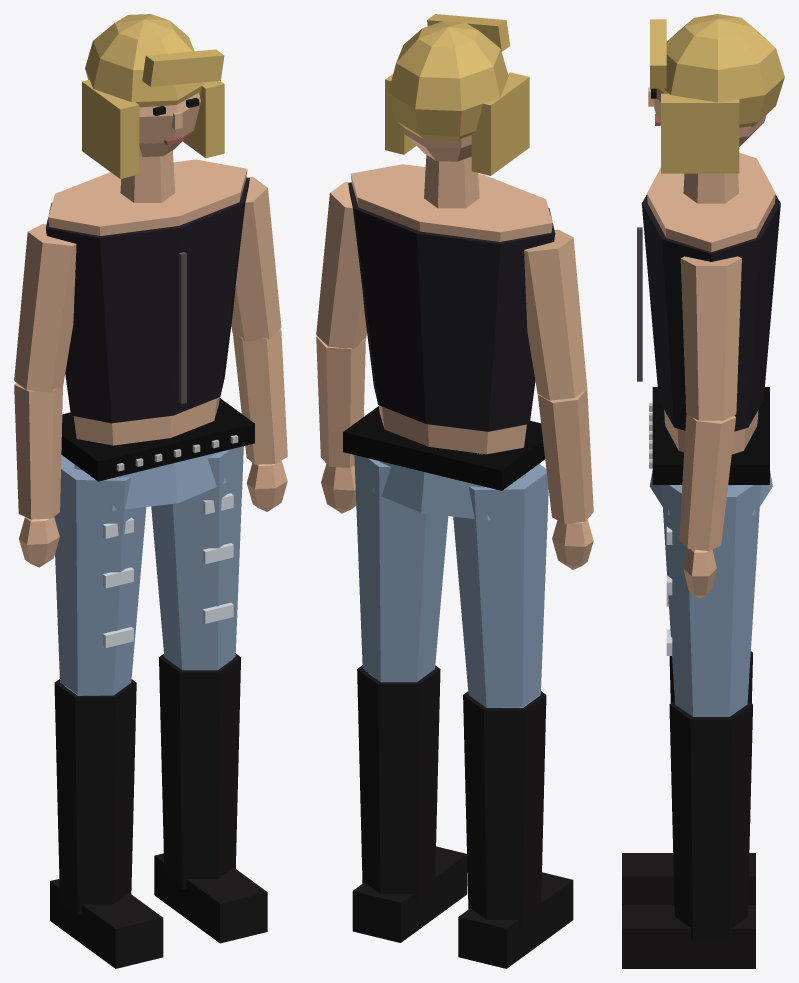
The model's file is 06-jeans-woman.glb.
3 renders of one model, left to right at view 1: azimuth 30°, elevation 25°; view 2: azimuth 150°, elevation 25°; view 3: azimuth 270°, elevation 25°, orthographic.
Visible parts, largest first — view 1: 06-jeans-woman-vest, 06-jeans-woman-boot, 06-jeans-woman-boot.001, 06-jeans-woman-thigh, 06-jeans-woman-thigh.001, 06-jeans-woman-torso, 06-jeans-woman-upperarm, 06-jeans-woman-hair, 06-jeans-woman-belt, 06-jeans-woman-forearm, 06-jeans-woman-foot, 06-jeans-woman-foot.001 (+11 smaller); view 2: 06-jeans-woman-vest, 06-jeans-woman-thigh, 06-jeans-woman-boot.001, 06-jeans-woman-boot, 06-jeans-woman-thigh.001, 06-jeans-woman-torso, 06-jeans-woman-hair, 06-jeans-woman-upperarm, 06-jeans-woman-belt, 06-jeans-woman-upperarm.001, 06-jeans-woman-forearm, 06-jeans-woman-foot (+10 smaller); view 3: 06-jeans-woman-boot.001, 06-jeans-woman-thigh.001, 06-jeans-woman-vest, 06-jeans-woman-hair, 06-jeans-woman-upperarm.001, 06-jeans-woman-torso, 06-jeans-woman-foot.001, 06-jeans-woman-forearm.001, 06-jeans-woman-hairside.001, 06-jeans-woman-belt, 06-jeans-woman-foot, 06-jeans-woman-neck (+6 smaller).
Boxes of the visible parts, x1,y1,x2,y2 form: 06-jeans-woman-vest: (46,177,249,423); 06-jeans-woman-boot: (54,679,136,914); 06-jeans-woman-boot.001: (159,653,240,888); 06-jeans-woman-thigh: (54,455,146,695); 06-jeans-woman-thigh.001: (151,446,243,670); 06-jeans-woman-torso: (48,159,247,445); 06-jeans-woman-upperarm: (14,224,76,392); 06-jeans-woman-hair: (85,14,203,107); 06-jeans-woman-belt: (61,398,254,481); 06-jeans-woman-forearm: (14,383,62,519); 06-jeans-woman-foot: (50,879,163,968); 06-jeans-woman-foot.001: (154,853,267,943); 06-jeans-woman-vest: (348,182,555,431); 06-jeans-woman-thigh: (453,464,548,707); 06-jeans-woman-boot.001: (357,665,440,903); 06-jeans-woman-boot: (463,691,546,929); 06-jeans-woman-thigh.001: (354,455,448,682); 06-jeans-woman-torso: (350,164,552,454); 06-jeans-woman-hair: (388,21,508,141); 06-jeans-woman-upperarm: (524,229,587,400); 06-jeans-woman-belt: (343,406,544,490); 06-jeans-woman-upperarm.001: (316,181,366,349); 06-jeans-woman-forearm: (538,389,593,524); 06-jeans-woman-foot: (458,872,573,968); 06-jeans-woman-boot.001: (669,701,752,939); 06-jeans-woman-thigh.001: (661,485,760,716); 06-jeans-woman-vest: (641,195,780,431); 06-jeans-woman-hair: (659,14,784,127); 06-jeans-woman-upperarm.001: (680,256,741,420); 06-jeans-woman-torso: (647,153,775,454); 06-jeans-woman-foot.001: (622,905,755,968); 06-jeans-woman-forearm.001: (679,414,735,550); 06-jeans-woman-hairside.001: (661,93,739,173); 06-jeans-woman-belt: (652,387,769,484); 06-jeans-woman-foot: (622,853,755,904); 06-jeans-woman-neck: (683,173,738,203).
Size of the model in its own units: 0.5499 by 1.81 by 0.292.
